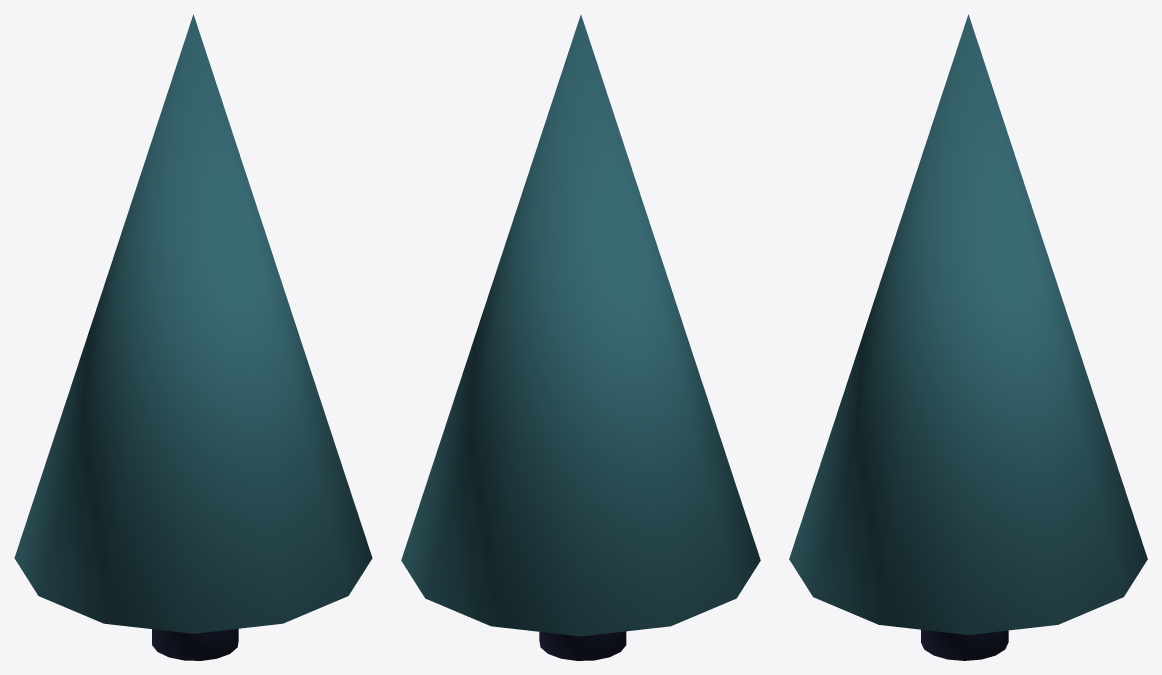
File: sapin-printemps.gltf
3 views of the same model, side by side, from view 1: azimuth 30°, elevation 25°; view 2: azimuth 150°, elevation 25°; view 3: azimuth 270°, elevation 25° (orthographic).
Visible parts, largest first — view 1: Cone, Cylinder; view 2: Cone, Cylinder; view 3: Cone, Cylinder.
Boxes of the visible parts, x1=… form: Cone: x1=14, y1=14, x2=372, y2=633; Cylinder: x1=152, y1=628, x2=238, y2=660; Cone: x1=401, y1=15, x2=760, y2=636; Cylinder: x1=539, y1=631, x2=626, y2=660; Cone: x1=789, y1=14, x2=1147, y2=634; Cylinder: x1=921, y1=629, x2=1008, y2=660.
Size of the model in its own units: 1.29 by 2.5 by 1.29.
